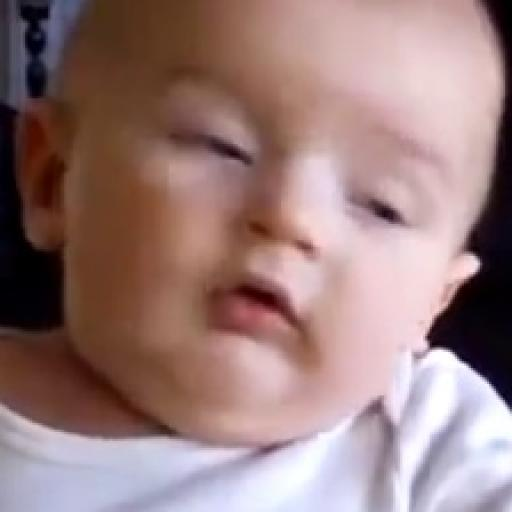Autism: (44, 0, 512, 451)
